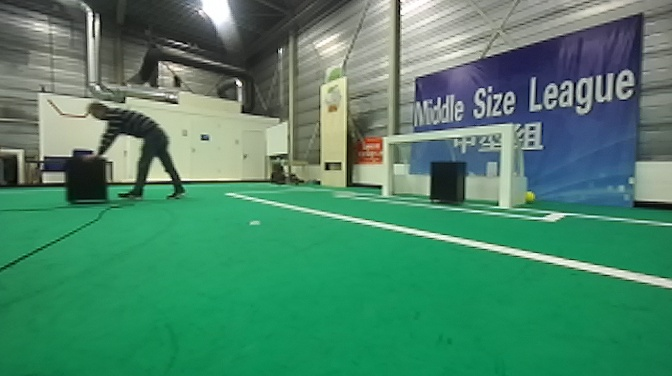ball: (522, 183, 538, 205)
goalpost: (499, 122, 514, 213), (380, 134, 395, 196)
human: (82, 97, 185, 198)
